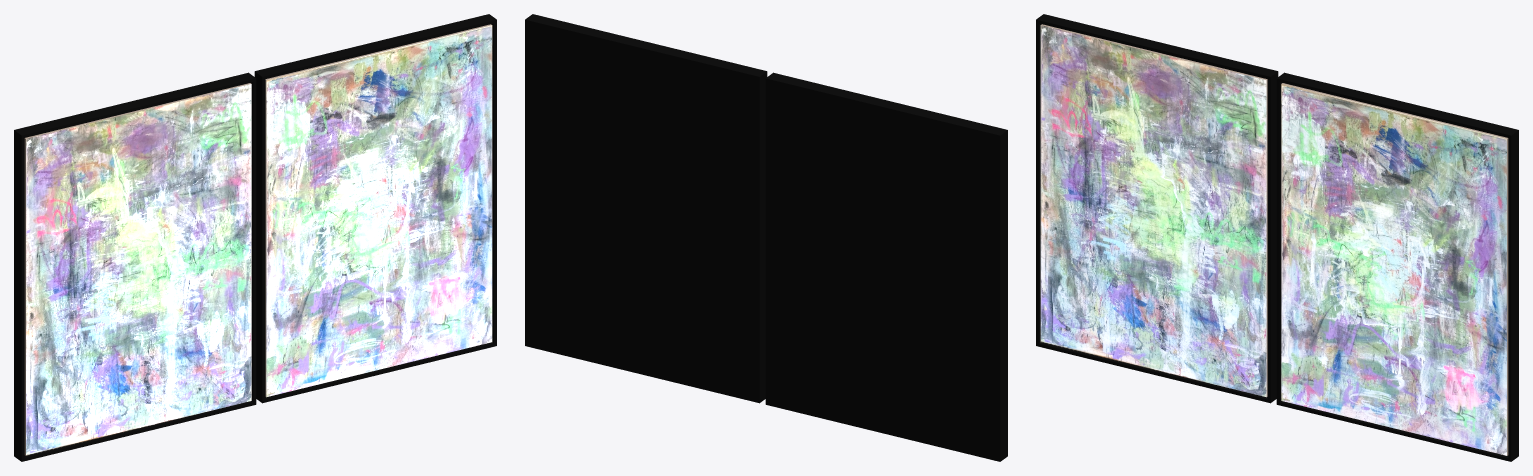
Rendered from lizard-rhapsody-black.glb.
The picture shows the model from 3 angles, left to right: view 1: azimuth 30°, elevation 25°; view 2: azimuth 150°, elevation 25°; view 3: azimuth 330°, elevation 25°; orthographic projection.
Visible parts, largest first — view 1: painting; view 2: painting; view 3: painting.
Part boxes in pixels (x1,y1,x2,y2): painting: [14, 14, 496, 461]; painting: [525, 14, 1007, 461]; painting: [1036, 14, 1518, 461].
Size of the model in its own units: 1.6 by 1.05 by 0.045.
Materials: 4 (2 with a texture image).
